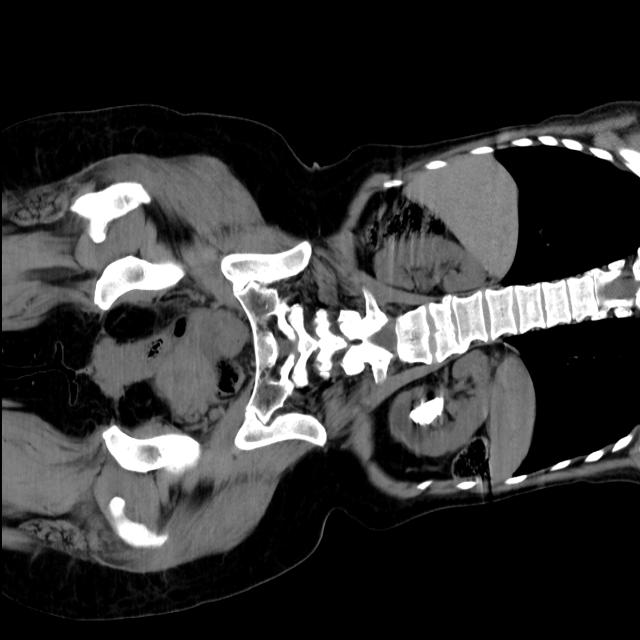kidneystone: (409, 397, 442, 425)
